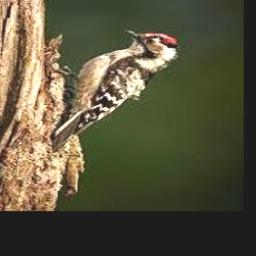Woodpecker: (53, 29, 180, 150)
